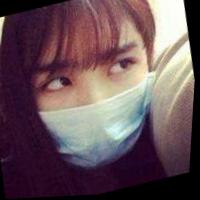WRONG: (17, 34, 169, 185)
